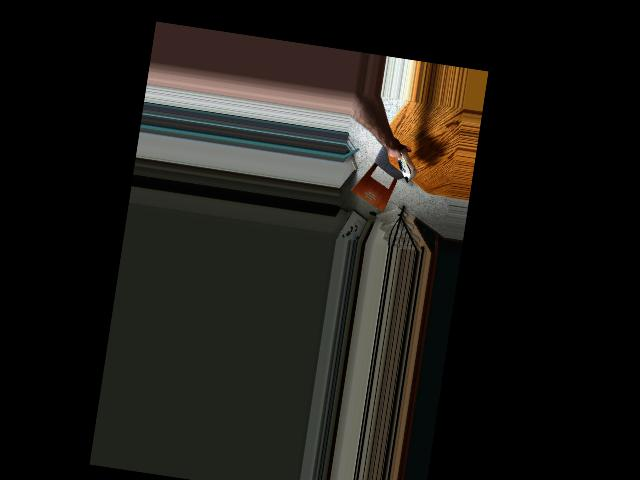cheese: (392, 146, 420, 184)
